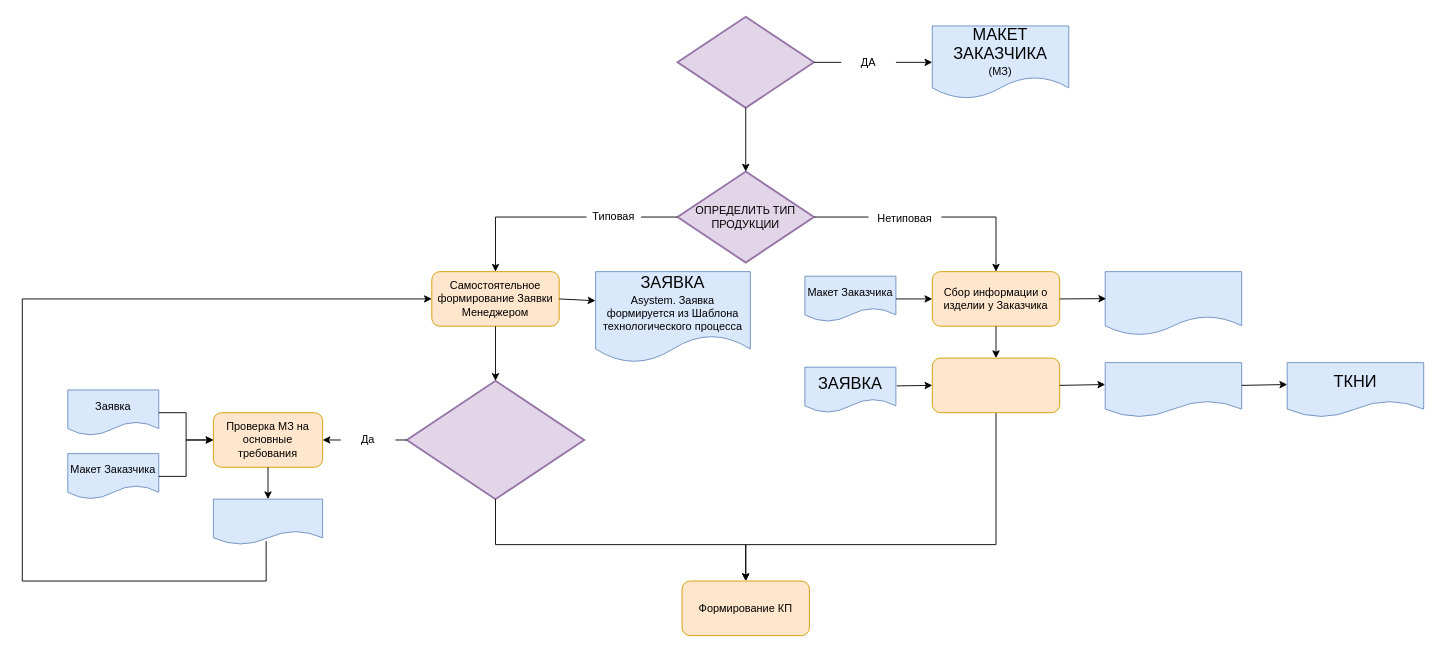
Some shapes in this 1440 by 652 pixel diagram are drawn without their labels. The shapes that lost their labels are listed below. From the top down, each one's centre as x and y in pixels, then its label:
[745,61]: МАКЕТ ЕСТЬ?
[1173,303]: ЗАЯВКА Формируется ОПП
[995,385]: Разработка ТКНИ
[1173,389]: Шаблон ТИ
[495,439]: Требуется проверка МЗ на основные требования
[267,521]: Акт приемки МЗ
